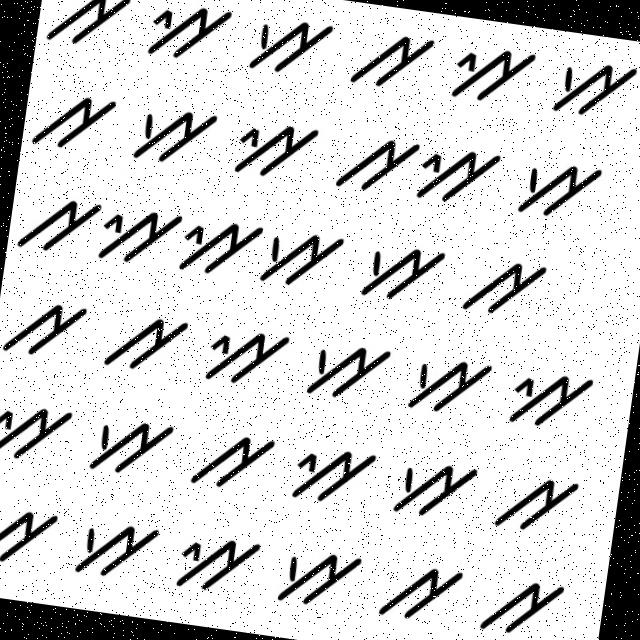wa: (457, 244, 558, 332), (0, 281, 93, 372), (329, 118, 422, 206), (486, 460, 584, 541), (476, 559, 574, 639), (376, 551, 470, 632), (100, 301, 195, 381), (348, 17, 439, 98), (28, 84, 122, 161), (13, 184, 102, 264), (188, 419, 280, 496), (44, 0, 137, 55)
we: (352, 226, 450, 318), (127, 91, 222, 178), (546, 44, 639, 132), (389, 442, 484, 527), (512, 148, 610, 230), (71, 504, 169, 586), (240, 2, 340, 82), (272, 533, 365, 615), (406, 338, 496, 422), (300, 332, 395, 408), (258, 215, 348, 292), (86, 404, 178, 479)
wi: (166, 512, 265, 603), (505, 348, 599, 437), (225, 104, 322, 190), (441, 34, 542, 112), (288, 430, 380, 514), (199, 319, 293, 399), (94, 193, 186, 274), (0, 375, 81, 467), (413, 133, 504, 214), (139, 0, 238, 67), (180, 207, 264, 280), (0, 493, 61, 577)
